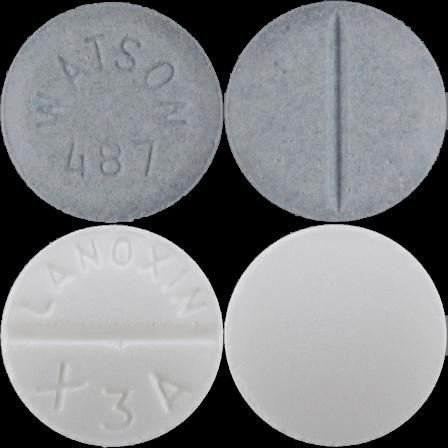69189-0487: (0, 0, 224, 224)
